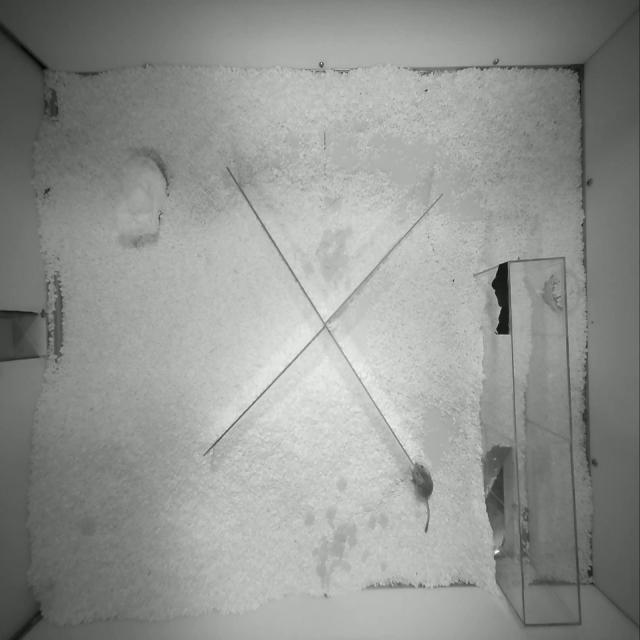pup_fluffy: (412, 462, 433, 533)
